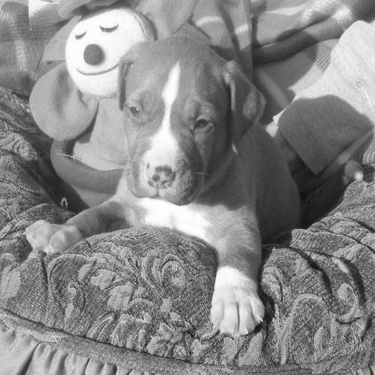dog: (14, 27, 370, 344)
